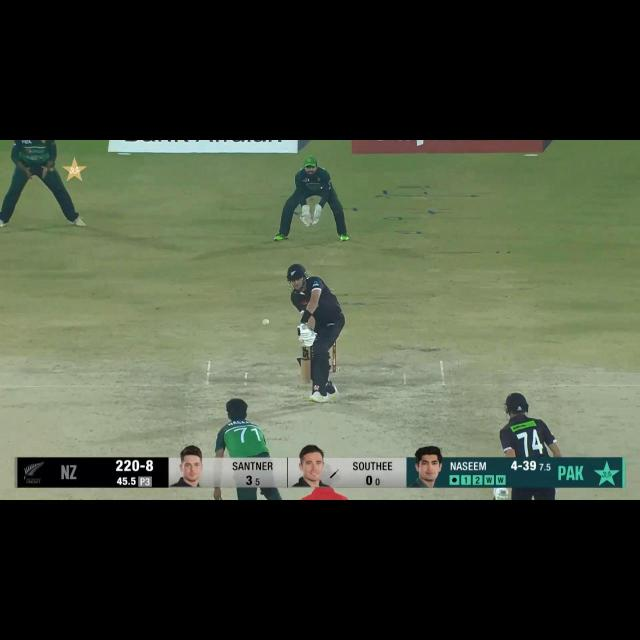bat: (299, 346, 312, 385)
toe: (298, 378, 312, 386)
